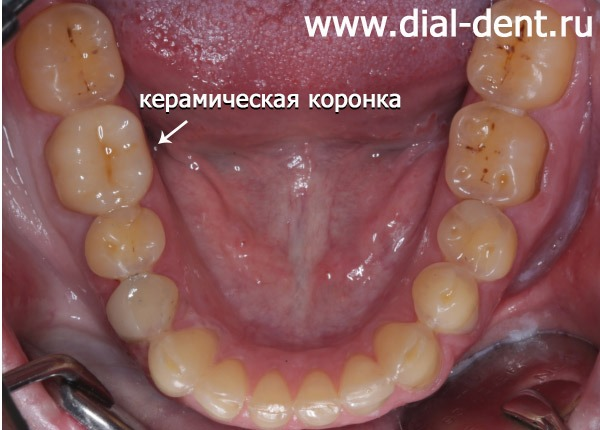LL1BC_healthy: (414, 266, 478, 332)
LL1M_decay: (446, 103, 543, 201)
LL2BC_healthy: (437, 200, 515, 278)
LL2M_decay: (468, 38, 571, 101)
LLCI_healthy: (294, 375, 336, 425)
LLC_healthy: (376, 322, 437, 387)
LLLI_healthy: (340, 357, 392, 411)
LR1BC_decay: (107, 272, 176, 334)
LR1M_decay: (46, 108, 150, 209)
LR2BC_decay: (86, 208, 165, 276)
LR2M_decay: (20, 12, 122, 108)
LRCI_healthy: (252, 374, 292, 426)
LRC_healthy: (150, 329, 210, 395)
LRLI_healthy: (199, 360, 245, 418)
